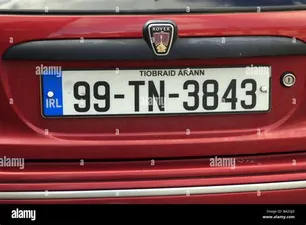number_plate: (34, 60, 295, 130)
